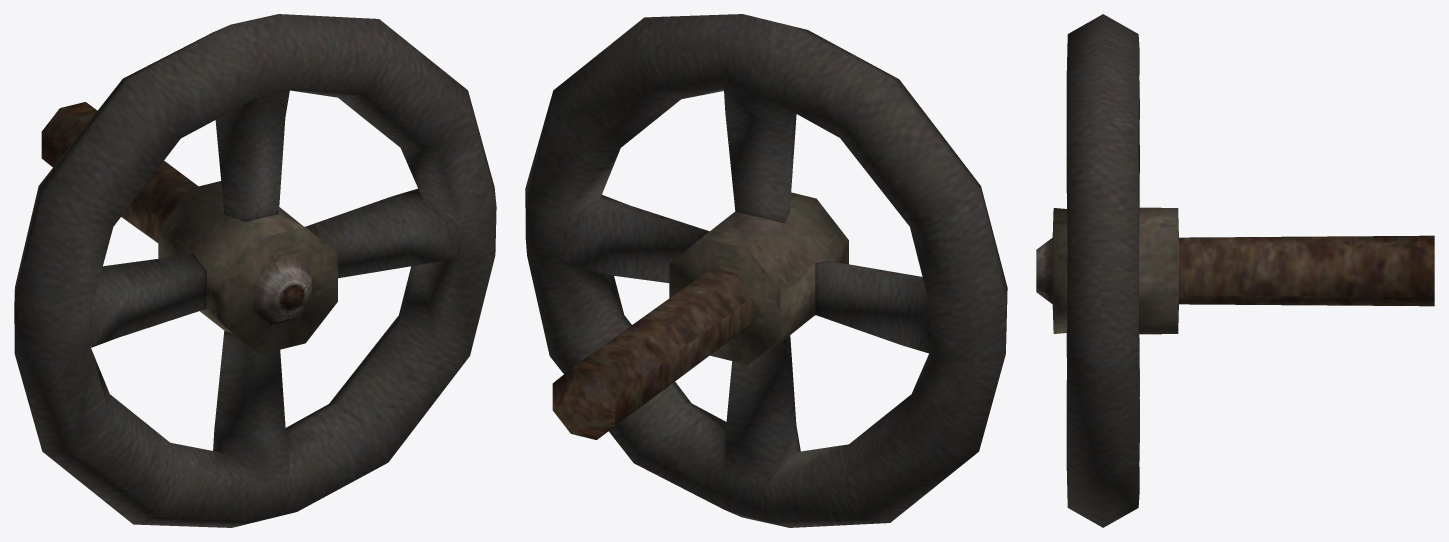
The model's file is 01_05_power_box_valve.dae.
3 renders of one model, left to right at view 1: azimuth 30°, elevation 25°; view 2: azimuth 150°, elevation 25°; view 3: azimuth 270°, elevation 25°, orthographic. The views are drawn at different scales.
Visible parts, largest first — view 1: valve; view 2: valve; view 3: valve.
Part boxes in pixels (box(x1,y1,x2,y2)): valve: box(14, 14, 496, 527); valve: box(525, 14, 1007, 527); valve: box(1036, 14, 1434, 527).
Size of the model in its own units: 0.2095 by 0.2094 by 0.1656.
